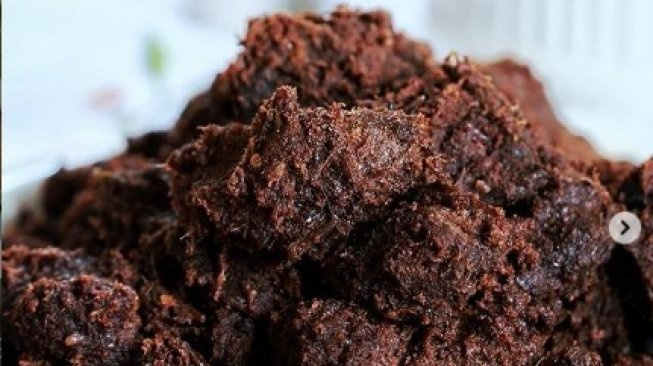rendang: (11, 52, 607, 365)
